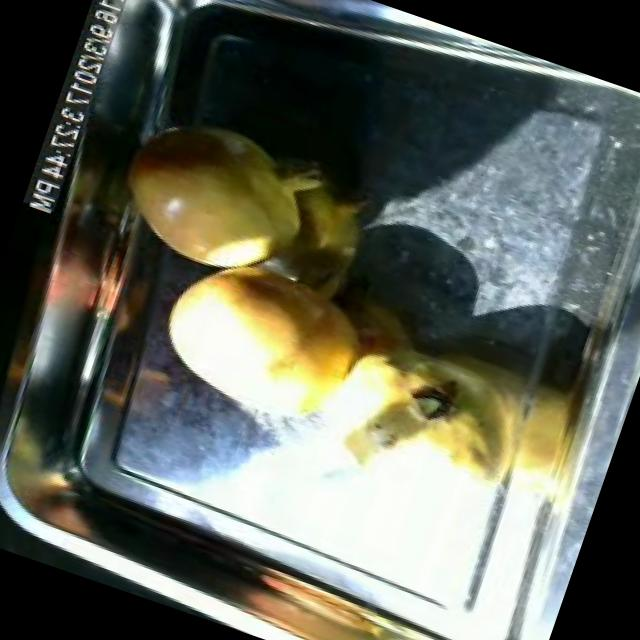fruit: (130, 224, 391, 447), (306, 326, 553, 548), (98, 91, 340, 301)
